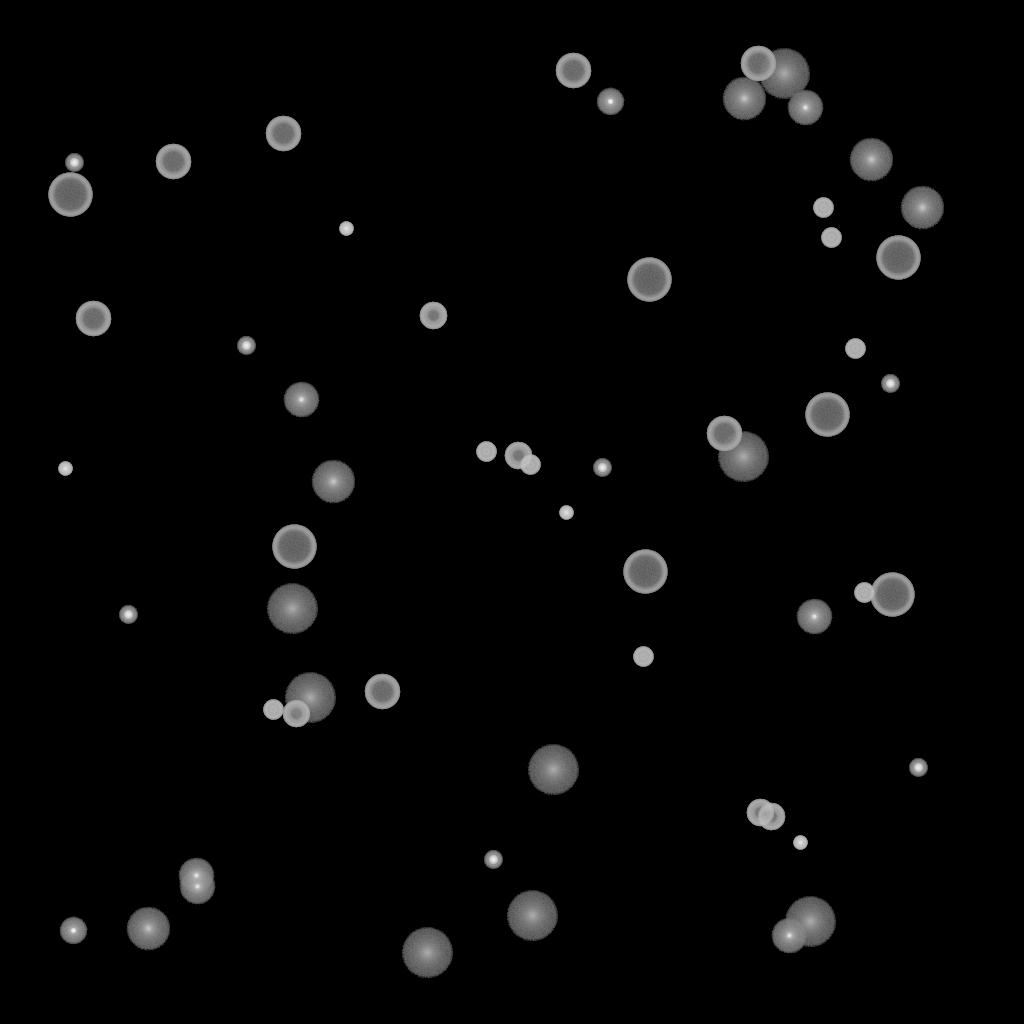depth:-10: (596, 88, 624, 116), (59, 917, 87, 945)
depth:-20: (909, 759, 927, 777), (593, 459, 611, 477), (65, 154, 83, 172), (237, 337, 255, 355), (119, 606, 137, 624), (881, 375, 899, 393), (484, 851, 502, 869)
depth:-30: (58, 462, 72, 476), (339, 222, 353, 236), (793, 836, 807, 850), (559, 506, 573, 520)
depth:-40: (845, 339, 865, 359), (263, 700, 283, 720), (821, 228, 841, 248), (854, 583, 874, 603), (813, 198, 833, 218), (633, 647, 653, 667), (476, 442, 496, 462), (520, 455, 540, 475)
depth:-50: (282, 700, 310, 728), (504, 442, 532, 470), (419, 302, 447, 330), (746, 799, 774, 827), (757, 803, 785, 831)
depth:-60: (155, 144, 191, 180), (555, 53, 591, 89), (265, 116, 301, 152), (364, 674, 400, 710), (740, 46, 776, 82), (75, 301, 111, 337), (706, 416, 742, 452)
depth:-70: (870, 573, 914, 617), (627, 258, 671, 302), (876, 236, 920, 280), (272, 525, 316, 569), (623, 550, 667, 594), (48, 173, 92, 217), (805, 393, 849, 437)
depth:0: (787, 90, 823, 126), (796, 599, 832, 635), (283, 382, 319, 418), (178, 858, 214, 894), (179, 869, 215, 905), (771, 918, 807, 954)
depth:10: (849, 138, 893, 182), (126, 907, 170, 951), (311, 460, 355, 504), (900, 186, 944, 230), (722, 77, 766, 121)
depth:20: (784, 897, 836, 947), (506, 891, 558, 941), (527, 745, 579, 795), (758, 49, 810, 99), (717, 432, 769, 482), (266, 584, 318, 634), (284, 673, 336, 723), (401, 928, 453, 978)
